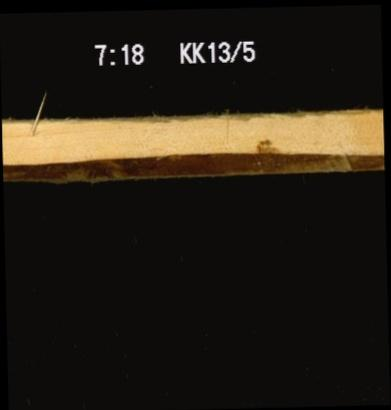wave: (2, 145, 384, 180)
